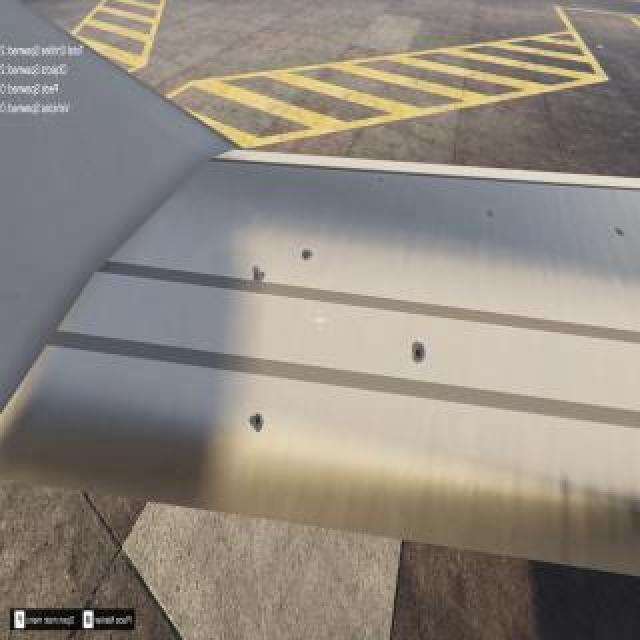crack: (408, 333, 432, 369), (246, 408, 270, 438), (249, 259, 269, 287), (297, 243, 317, 269), (613, 221, 625, 245), (374, 174, 390, 190), (484, 207, 496, 223)
